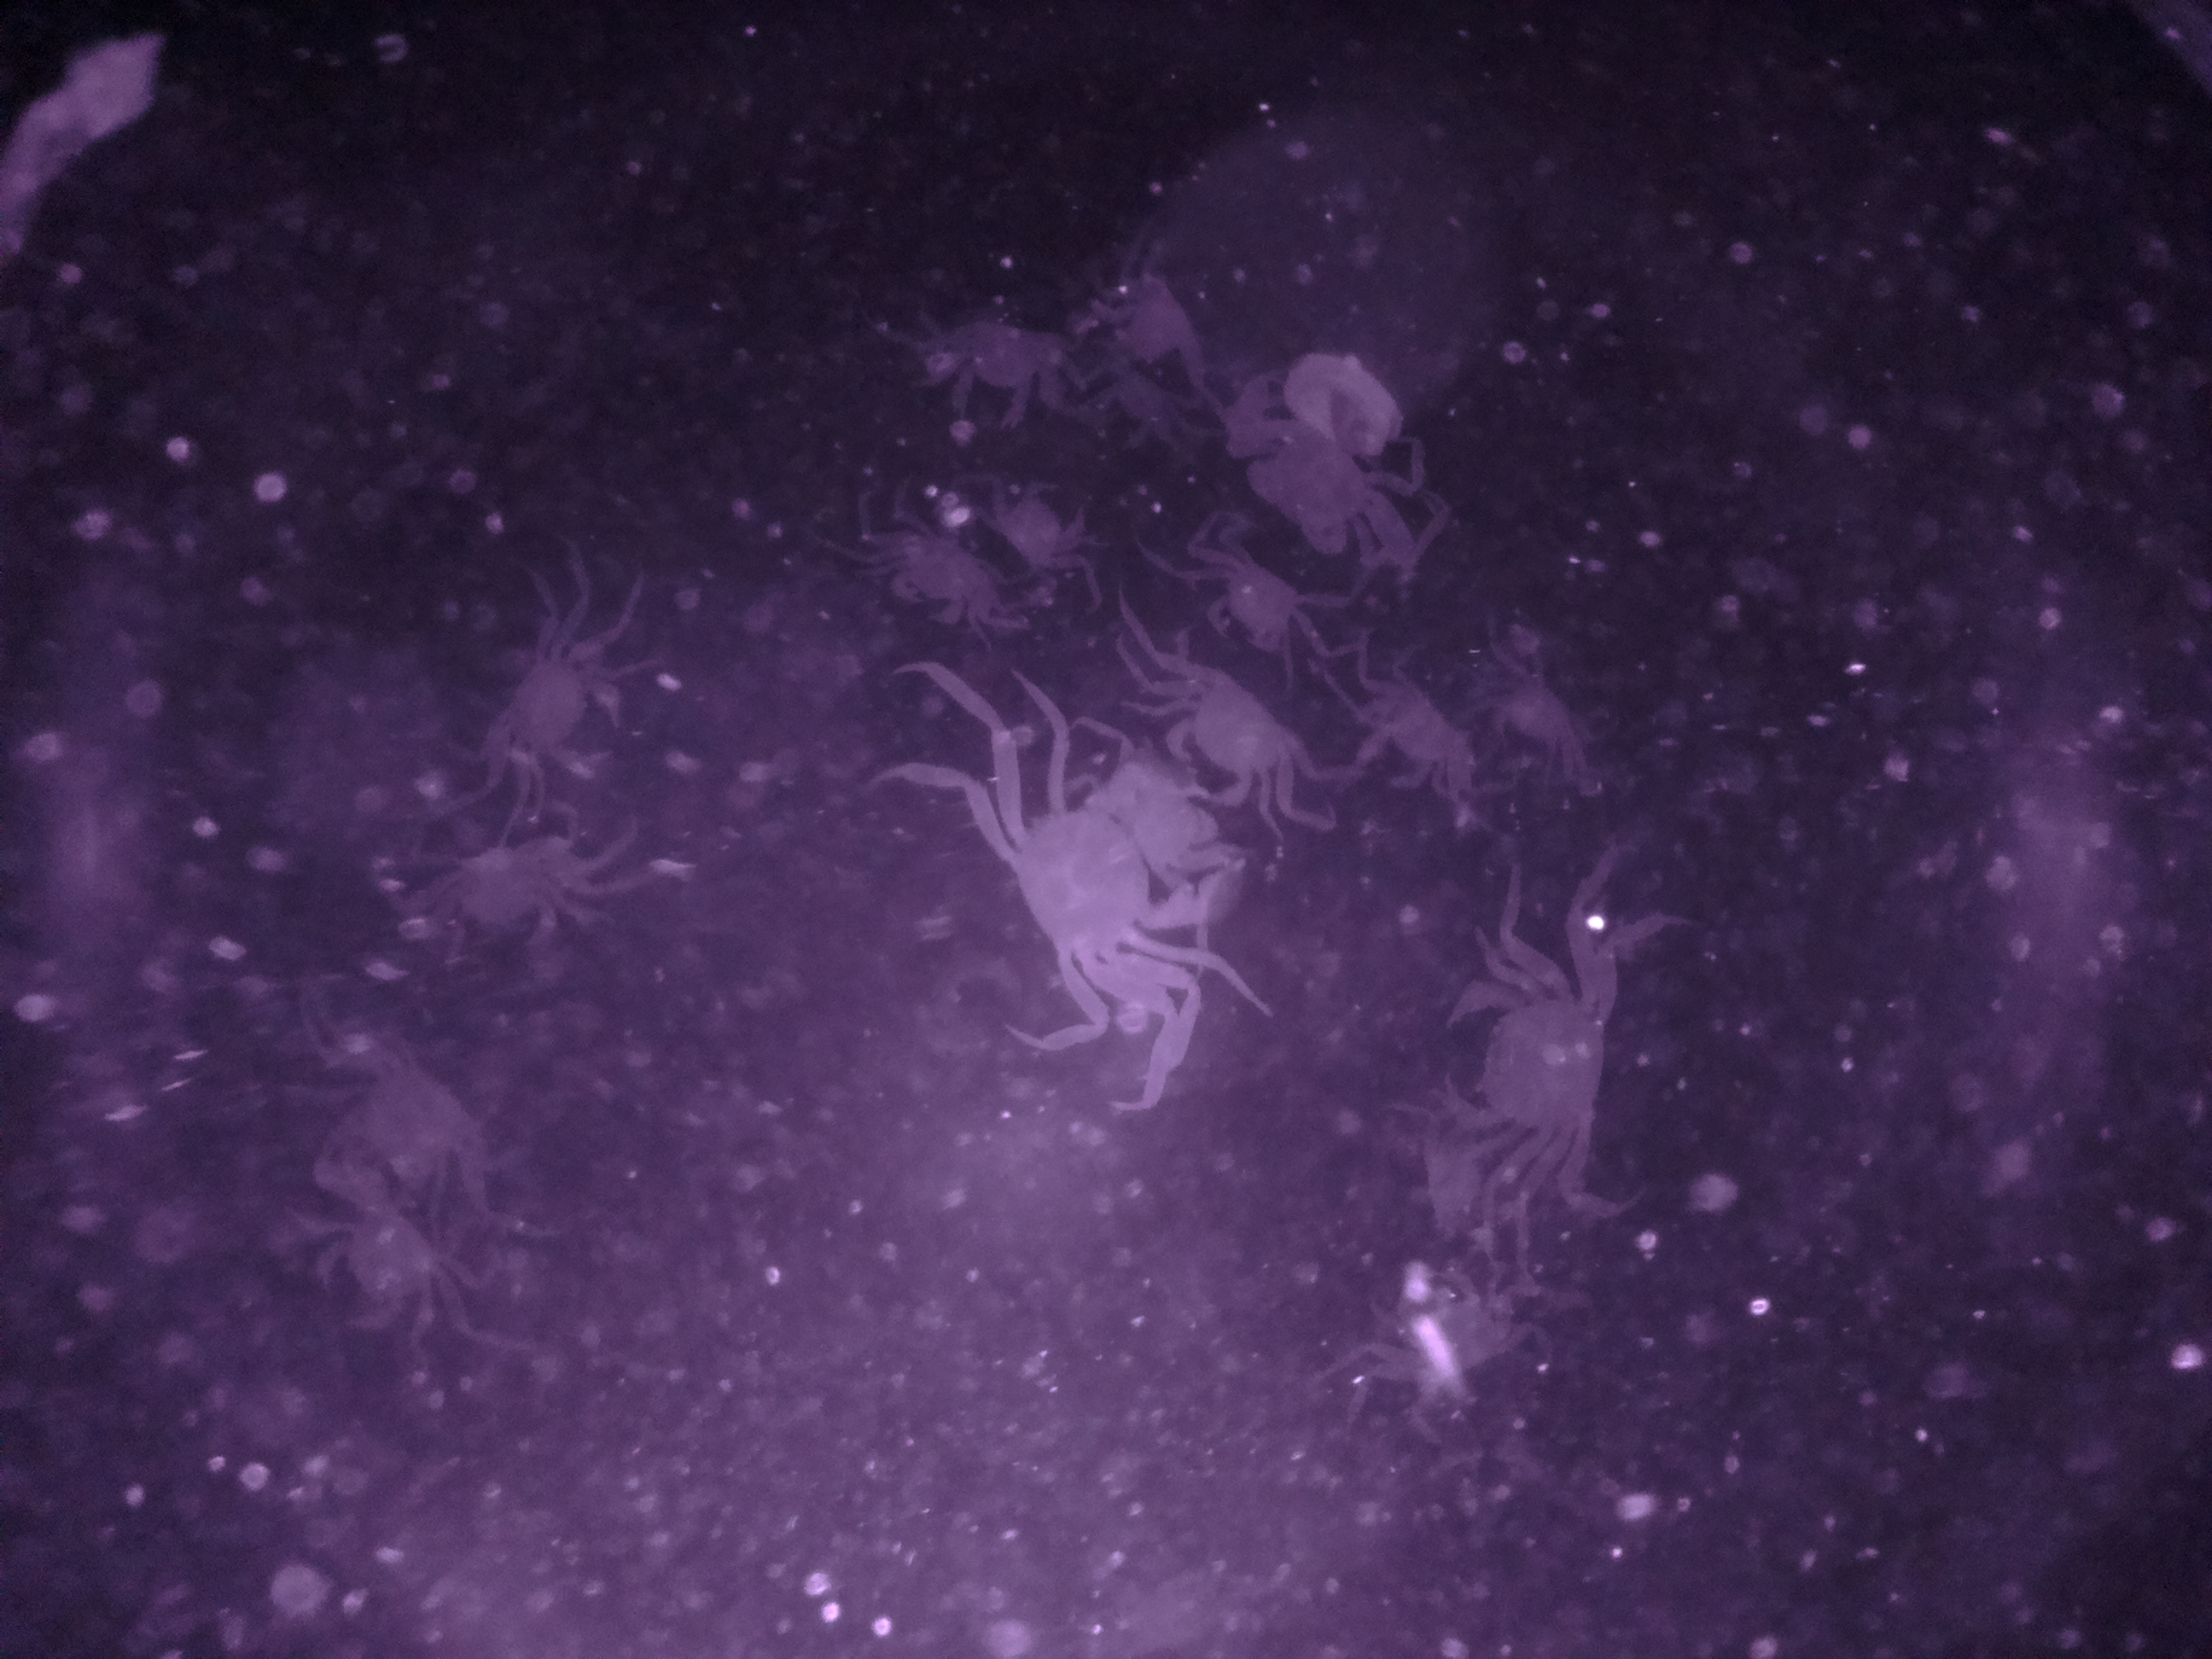Crab: (1418, 945, 1651, 1182), (479, 617, 644, 796), (1148, 648, 1315, 821), (864, 511, 1015, 638), (1343, 671, 1479, 798)
